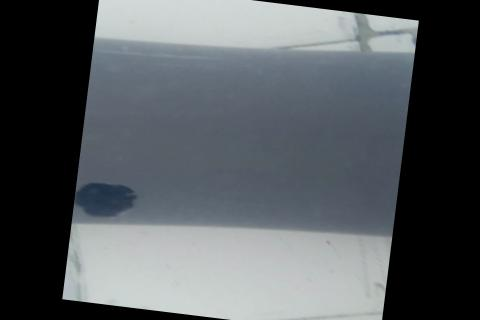kebocoran: (72, 176, 139, 222)
